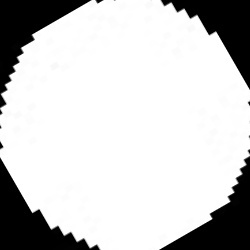spot: (0, 1, 249, 248)
